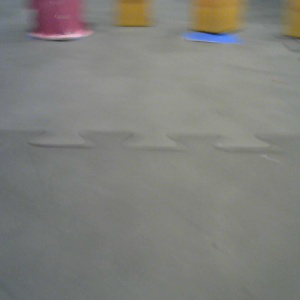middle: (25, 1, 94, 39)
